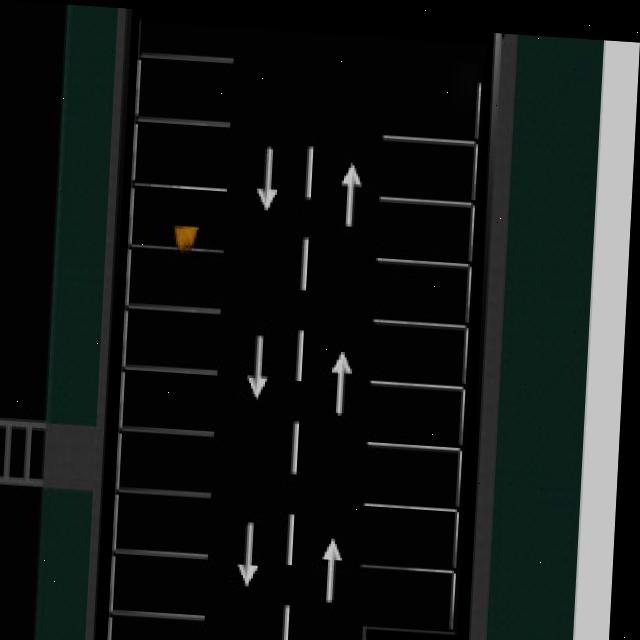Garbage: (175, 222, 201, 249)
